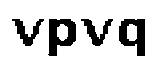p: (44, 16, 79, 60)
q: (118, 16, 149, 59)
v: (8, 14, 44, 48), (79, 13, 115, 47)
